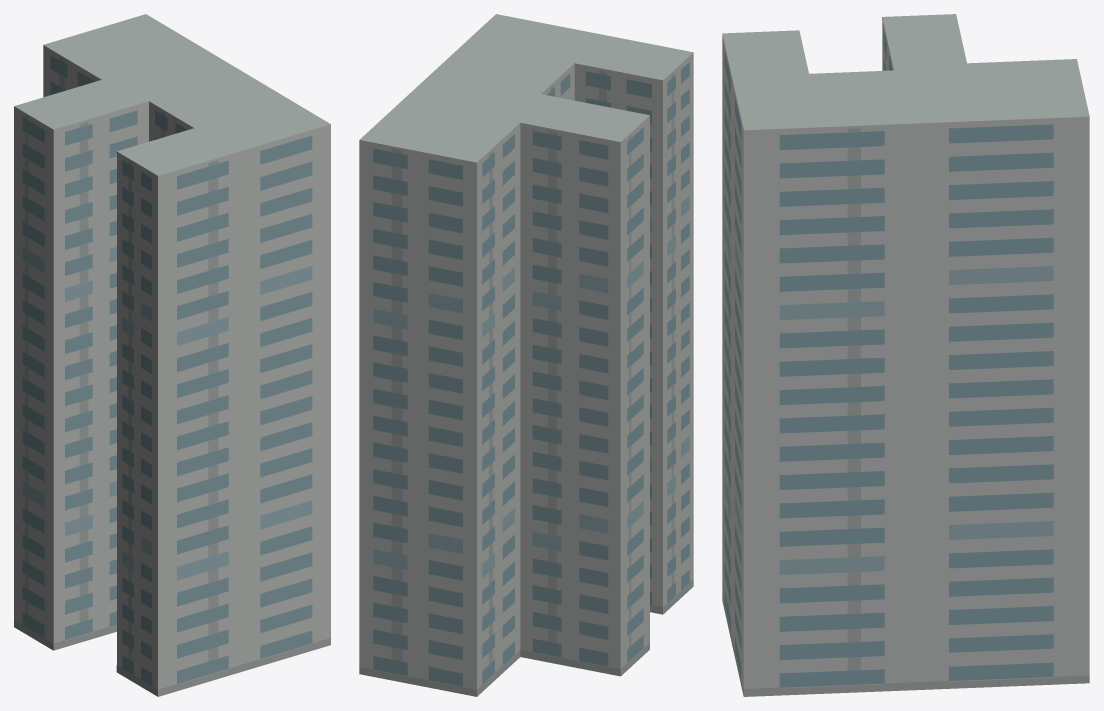
File: residential-e2e32ec5-635b-4e2b-b5a8-781dc495a2d3.glb
The picture shows the model from 3 angles, left to right: view 1: azimuth 30°, elevation 25°; view 2: azimuth 150°, elevation 25°; view 3: azimuth 270°, elevation 25°; orthographic projection. The views are drawn at different scales.
Parts seen in each view (by area): view 1: residential-e2e32ec5-635b-4e2b-b5a8-781dc495a2d3.tmp; view 2: residential-e2e32ec5-635b-4e2b-b5a8-781dc495a2d3.tmp; view 3: residential-e2e32ec5-635b-4e2b-b5a8-781dc495a2d3.tmp.
Part boxes in pixels (bbox=[...]): residential-e2e32ec5-635b-4e2b-b5a8-781dc495a2d3.tmp: bbox=[14, 14, 330, 696]; residential-e2e32ec5-635b-4e2b-b5a8-781dc495a2d3.tmp: bbox=[359, 14, 693, 696]; residential-e2e32ec5-635b-4e2b-b5a8-781dc495a2d3.tmp: bbox=[722, 14, 1089, 696].
Size of the model in its own units: 24.67 by 56 by 32.93.
